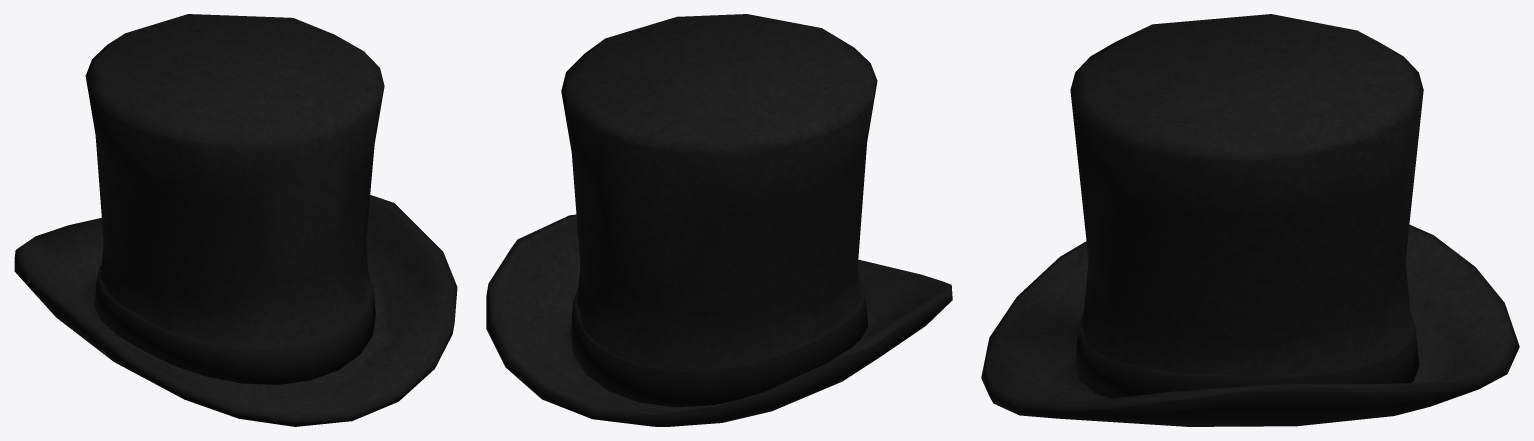
The model's file is Hats_Top_Hat.fbx.
3 renders of one model, left to right at view 1: azimuth 30°, elevation 25°; view 2: azimuth 150°, elevation 25°; view 3: azimuth 270°, elevation 25°, orthographic. The views are drawn at different scales.
Parts seen in each view (by area): view 1: TopHat; view 2: TopHat; view 3: TopHat.
Part boxes in pixels (x1=…): TopHat: x1=14, y1=14, x2=457, y2=426; TopHat: x1=486, y1=14, x2=952, y2=426; TopHat: x1=981, y1=14, x2=1519, y2=426.
Size of the model in its own units: 128 by 91.87 by 148.
